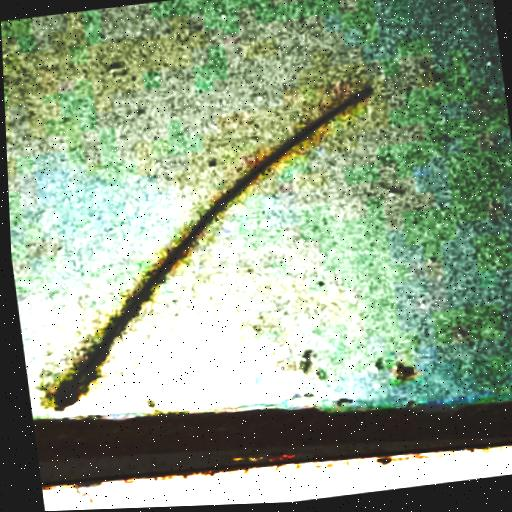crack: (16, 75, 419, 419)
